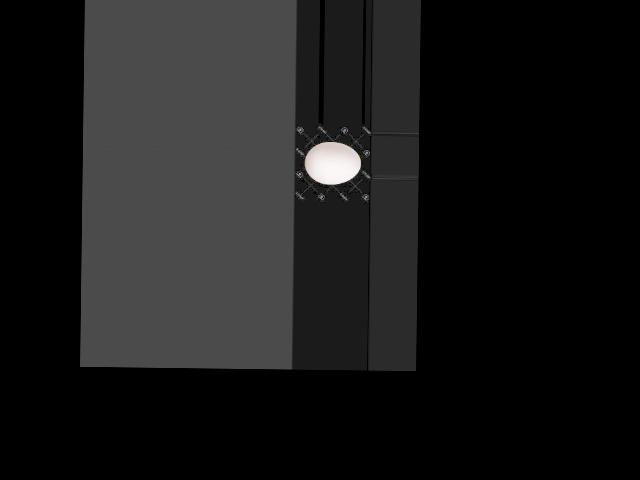egg: (304, 142, 360, 185)
